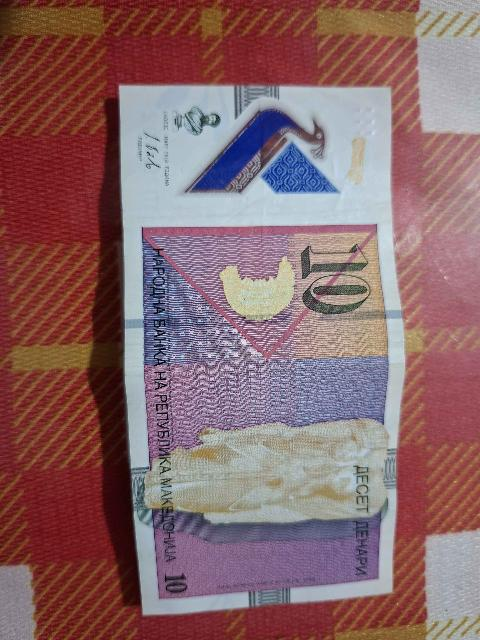note: (114, 85, 408, 616)
